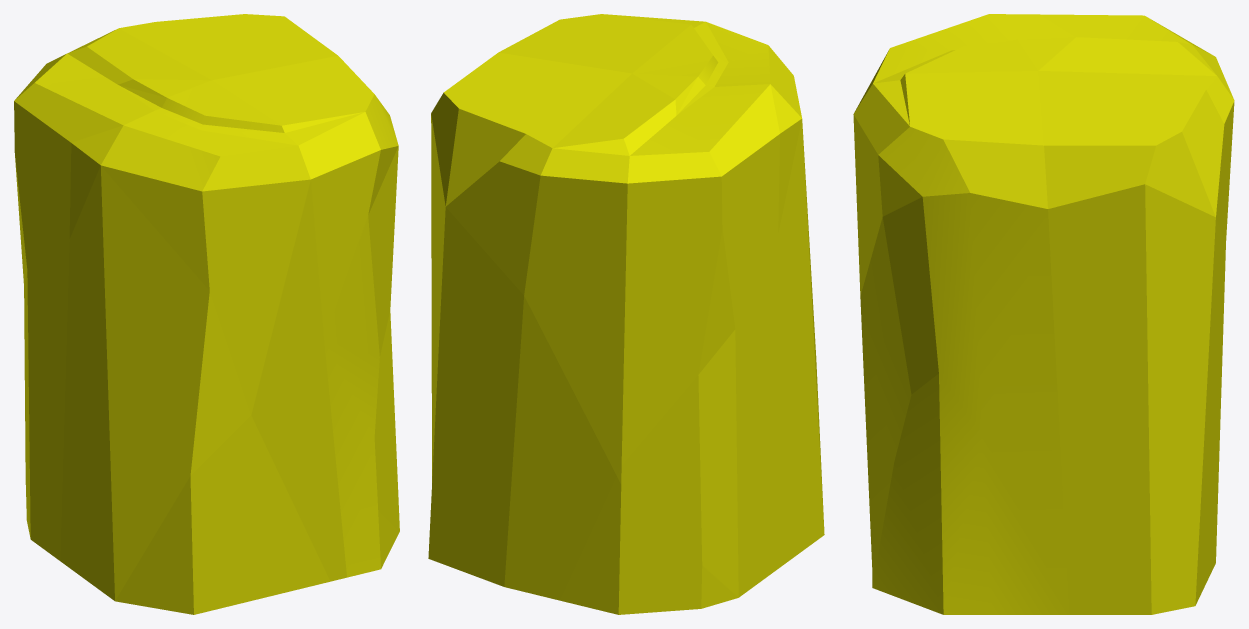
3 views of the same model, side by side, from view 1: azimuth 30°, elevation 25°; view 2: azimuth 150°, elevation 25°; view 3: azimuth 270°, elevation 25° (orthographic). The views are drawn at different scales.
Parts seen in each view (by area): view 1: stone_003; view 2: stone_003; view 3: stone_003.
Boxes of the visible parts, box(x1,y1,x2,y2) form: stone_003: box(14, 14, 399, 614); stone_003: box(428, 14, 824, 614); stone_003: box(853, 14, 1234, 614).
Bounding box in the file's own units: 1.03 × 1.56 × 1.13.
Materials: 1 (1 with a texture image).
